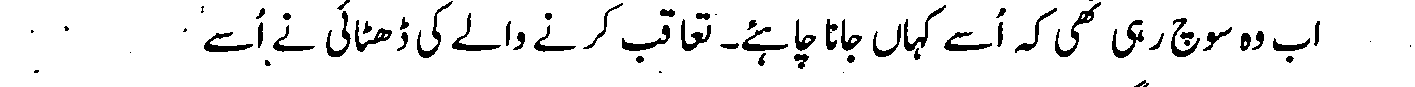bay_shosha: (618, 33, 660, 66), (1271, 34, 1311, 63)
